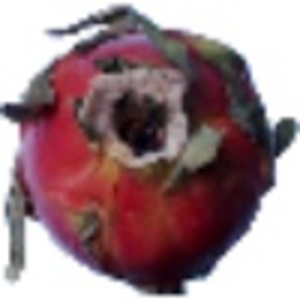pitaia: (1, 4, 300, 298)
